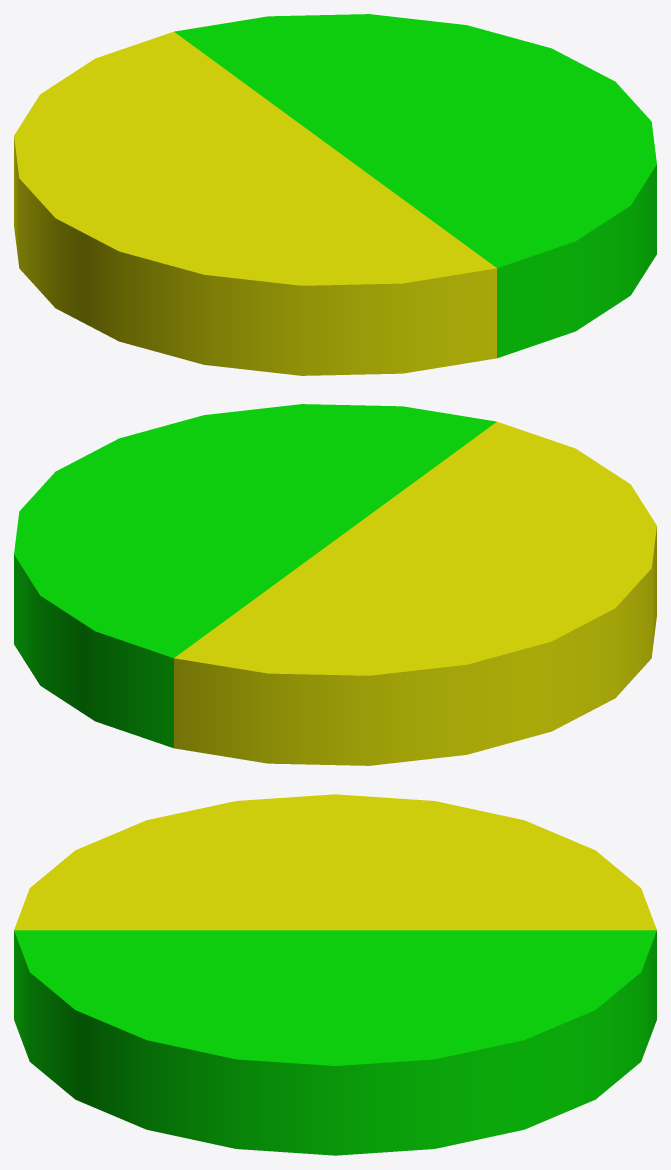
Rendered from 2_renk_sari_yesil.fbx.
The picture shows the model from 3 angles, top to bottom: view 1: azimuth 30°, elevation 25°; view 2: azimuth 150°, elevation 25°; view 3: azimuth 270°, elevation 25°; orthographic projection.
Parts seen in each view (by area): view 1: pCylinder7; view 2: pCylinder7; view 3: pCylinder7.
Boxes of the visible parts, bbox=[...] form: pCylinder7: bbox=[14, 14, 656, 375]; pCylinder7: bbox=[14, 404, 656, 765]; pCylinder7: bbox=[14, 794, 656, 1155].
Bounding box in the file's own units: 6.28 × 0.9651 × 6.28.
